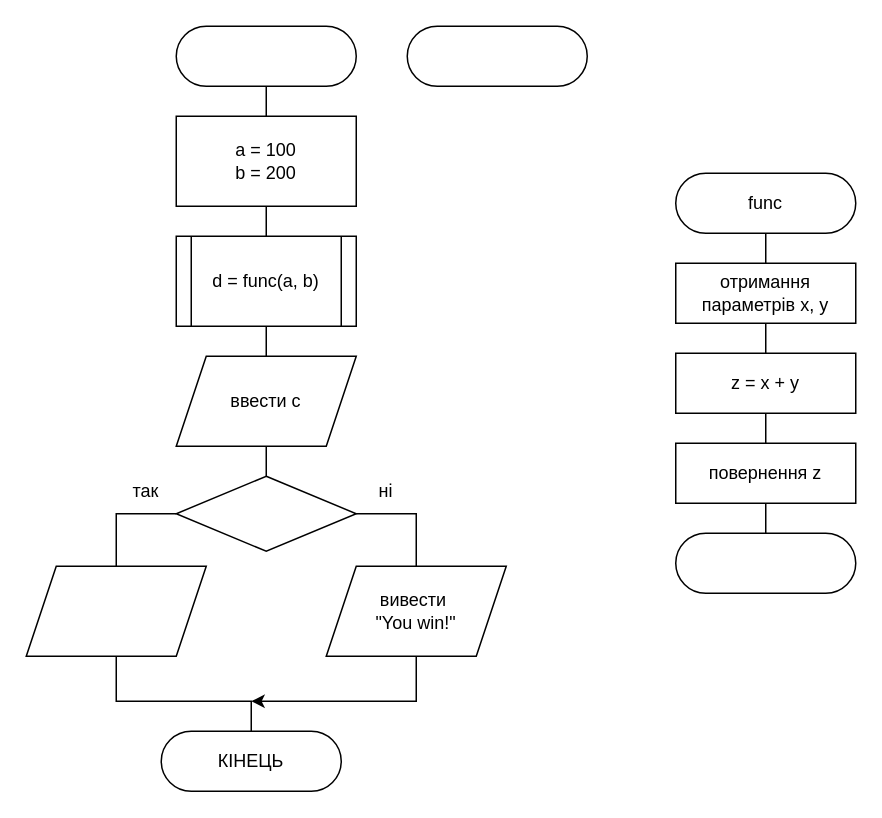
The diagram is 882 pixels wide and 818 high, and some of its shapes have lost their labels. Here are the shapes that lost their labels. From the top down, the box of each, then its label:
(175, 25, 356, 86): ПОЧАТОК
(175, 475, 356, 551): d > c
(674, 532, 856, 593): ВИХІД
(25, 565, 206, 656): вивести "You lose!"
